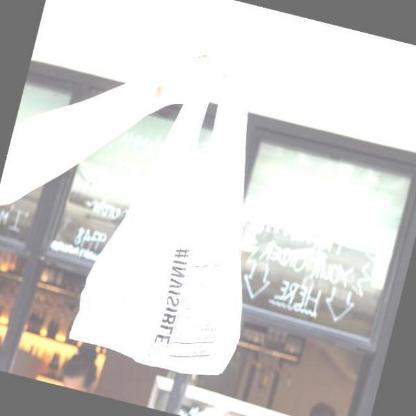Plastic Bag: (69, 44, 251, 378)
